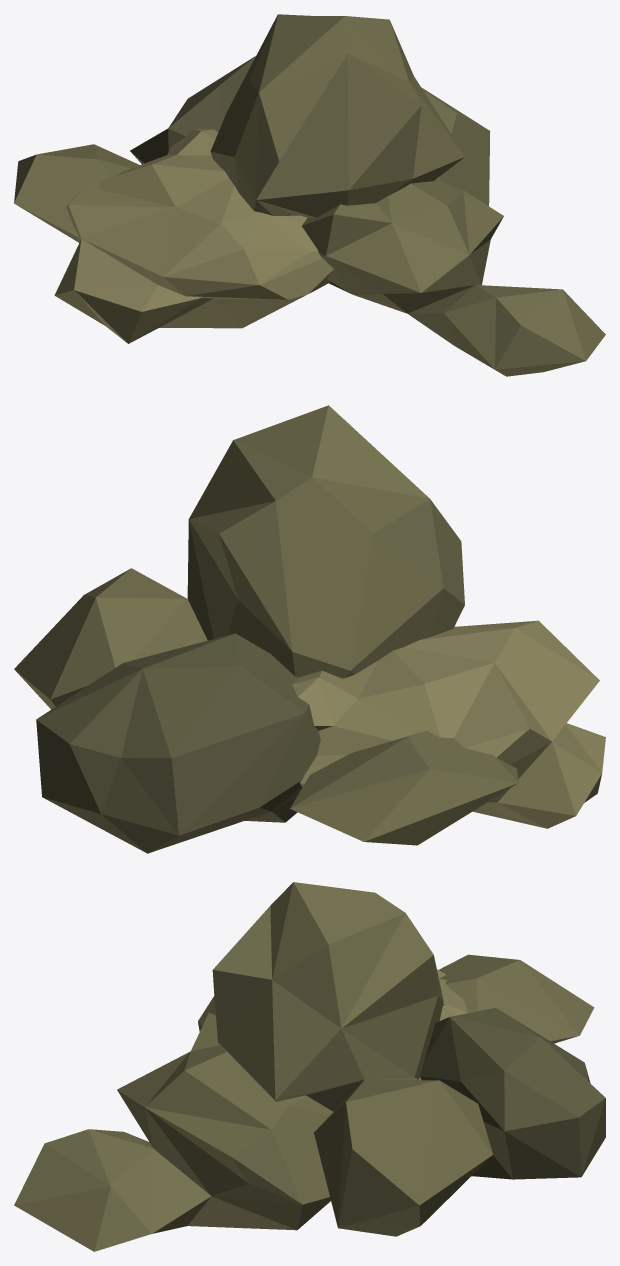
File: SM_Env_Bush_Large_02.fbx
3 views of the same model, one above another, from view 1: azimuth 30°, elevation 25°; view 2: azimuth 150°, elevation 25°; view 3: azimuth 270°, elevation 25° (orthographic). The views are drawn at different scales.
Parts seen in each view (by area): view 1: SM_Env_Bush_Large_02; view 2: SM_Env_Bush_Large_02; view 3: SM_Env_Bush_Large_02.
Boxes of the visible parts, <box> form: SM_Env_Bush_Large_02: <box>14,14,605,376</box>; SM_Env_Bush_Large_02: <box>14,405,605,853</box>; SM_Env_Bush_Large_02: <box>14,882,605,1251</box>.
Size of the model in its own units: 589 by 389 by 665.
